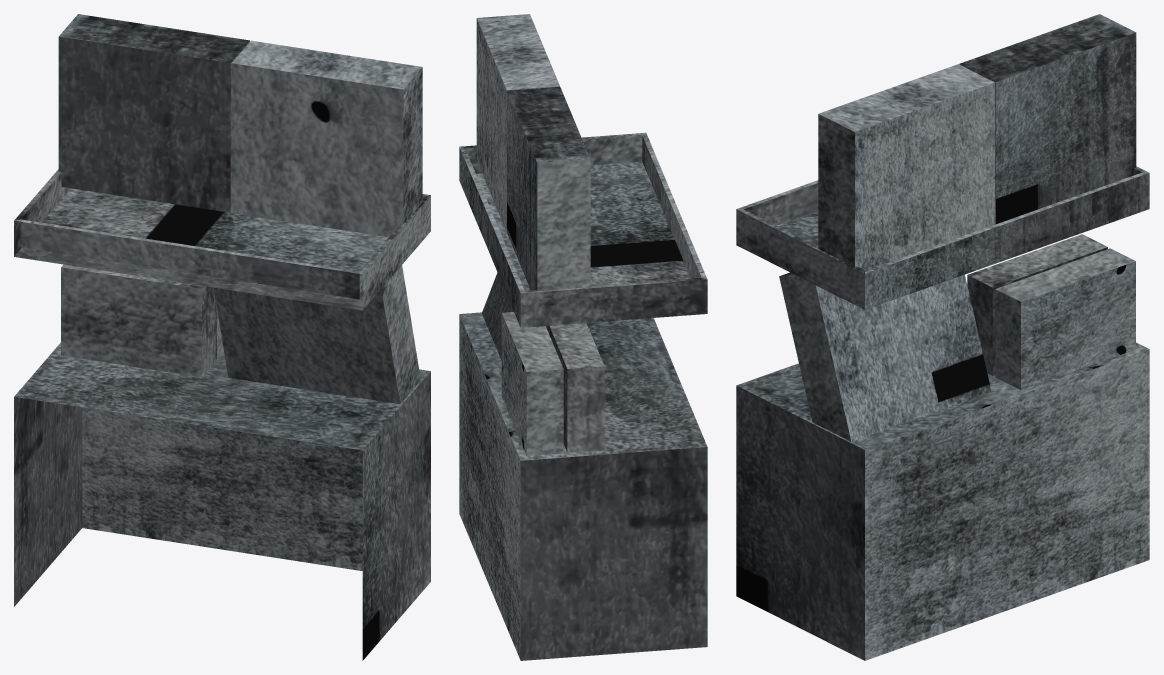
Rendered from store_44.obj.
3 renders of one model, left to right at view 1: azimuth 30°, elevation 25°; view 2: azimuth 150°, elevation 25°; view 3: azimuth 270°, elevation 25°, orthographic. The views are drawn at different scales.
Size of the model in its own units: 36.03 by 52.98 by 37.98.
